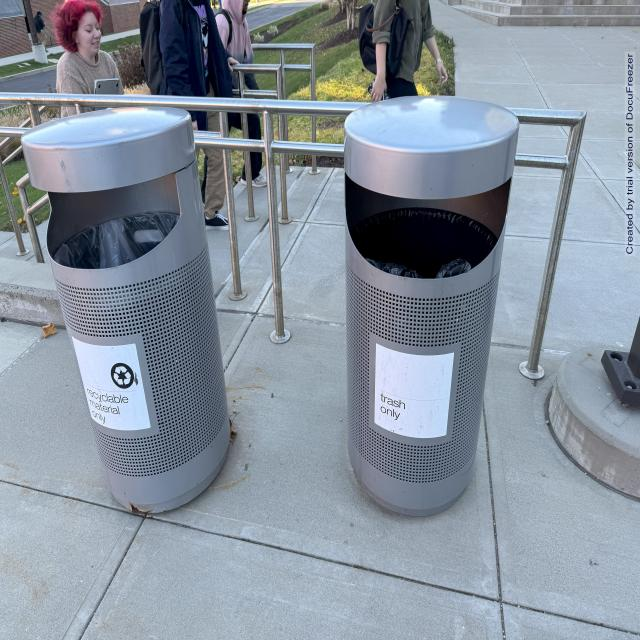Trash bin: (332, 80, 611, 554), (12, 91, 240, 522)
